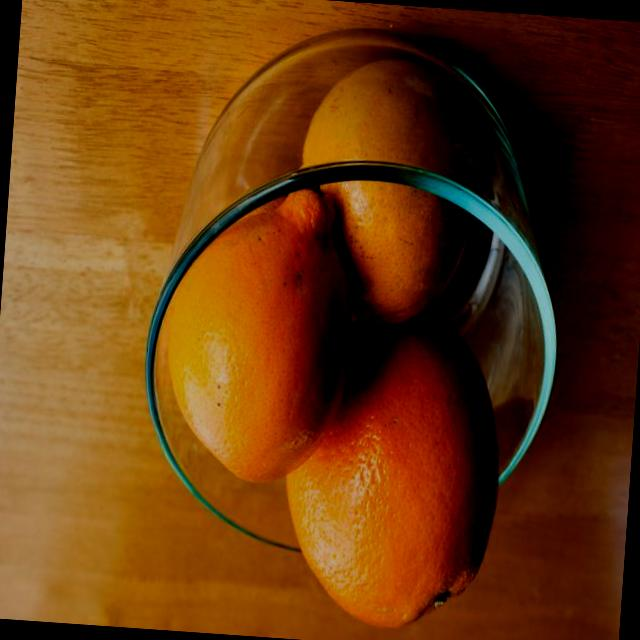Orange: (274, 304, 510, 637), (159, 179, 362, 490), (290, 52, 484, 333)
